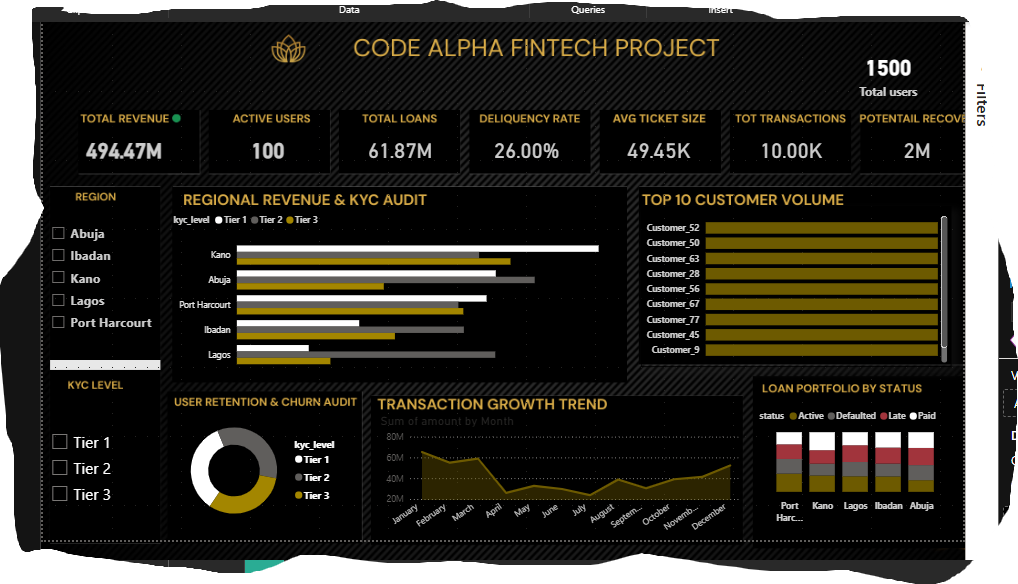

This screenshot's page, from the dashboard's own definition file:
{"tool":"powerbi","page":{"name":"Page 1","canvas":[1280,720],"ordinal":0},"visuals":[{"type":"card","fields":{"Values":["public dim_users.Active users"]},"box":[240,144,144,64],"z":0},{"type":"card","fields":{"Values":["Sum(public fact_transactions.amount)"]},"box":[48,144,128,64],"z":2},{"type":"card","fields":{"Values":["CountNonNull(public fact_transactions.tx_id)"]},"box":[976,144,128,64],"z":3},{"type":"card","fields":{"Values":["Sum(public fact_loans.principal)"]},"box":[432,144,128,64],"z":4},{"type":"card","fields":{"Values":["public fact_transactions.DELIQUENCY RATE"]},"box":[592,144,160,64],"z":5},{"type":"card","fields":{"Values":["Avg(public fact_transactions.amount)"]},"box":[784,144,144,64],"z":6},{"type":"slicer","fields":{"Values":["public dim_users.region"]},"box":[0,272,160,256],"z":8},{"type":"clusteredBarChart","fields":{"Category":["public dim_users.region"],"Y":["Sum(public fact_transactions.amount)"],"Series":["public dim_users.kyc_level"]},"box":[176,256,640,240],"z":9},{"type":"hundredPercentStackedBarChart","fields":{"Category":["public dim_users.full_name"],"Y":["public fact_transactions.Total tpv"]},"box":[832,256,432,224],"z":10},{"type":"slicer","fields":{"Values":["public dim_users.kyc_level"]},"box":[0,560,160,160],"z":11},{"type":"areaChart","fields":{"Category":["public dim_users.signup_date.Variation.Date Hierarchy.Month"],"Y":["Sum(public fact_transactions.amount)"]},"box":[464,544,512,176],"z":12},{"type":"hundredPercentStackedColumnChart","fields":{"Category":["public dim_users.region"],"Y":["CountNonNull(public fact_loans.loan_id)"],"Series":["public fact_loans.status"]},"box":[992,528,272,176],"z":13},{"type":"donutChart","fields":{"Category":["public dim_users.kyc_level"],"Y":["CountNonNull(public dim_users.user_id)"]},"box":[176,544,256,160],"z":14},{"type":"card","fields":{"Values":["public fact_transactions.POTENTIAL RECOVERY"]},"box":[1152,144,128,64],"z":15},{"type":"card","fields":{"Values":["CountNonNull(public dim_users.user_id)"]},"box":[1104,32,176,80],"z":16}]}

Visuals, with their boxes on the page's 1280x720 design canvas (x1, y1, x2, y2). These are canvas units, not pixel positions in the 1018x584 screenshot, which may show the page scaled, cropped or inside an application window:
card - public dim_users.Active users: 240 144 384 208
card - Sum(public fact_transactions.amount): 48 144 176 208
card - CountNonNull(public fact_transactions.tx_id): 976 144 1104 208
card - Sum(public fact_loans.principal): 432 144 560 208
card - public fact_transactions.DELIQUENCY RATE: 592 144 752 208
card - Avg(public fact_transactions.amount): 784 144 928 208
slicer - public dim_users.region: 0 272 160 528
clusteredBarChart - public dim_users.region x Sum(public fact_transactions.amount): 176 256 816 496
hundredPercentStackedBarChart - public dim_users.full_name x public fact_transactions.Total tpv: 832 256 1264 480
slicer - public dim_users.kyc_level: 0 560 160 720
areaChart - public dim_users.signup_date.Variation.Date Hierarchy.Month x Sum(public fact_transactions.amount): 464 544 976 720
hundredPercentStackedColumnChart - public dim_users.region x CountNonNull(public fact_loans.loan_id): 992 528 1264 704
donutChart - public dim_users.kyc_level x CountNonNull(public dim_users.user_id): 176 544 432 704
card - public fact_transactions.POTENTIAL RECOVERY: 1152 144 1280 208
card - CountNonNull(public dim_users.user_id): 1104 32 1280 112
